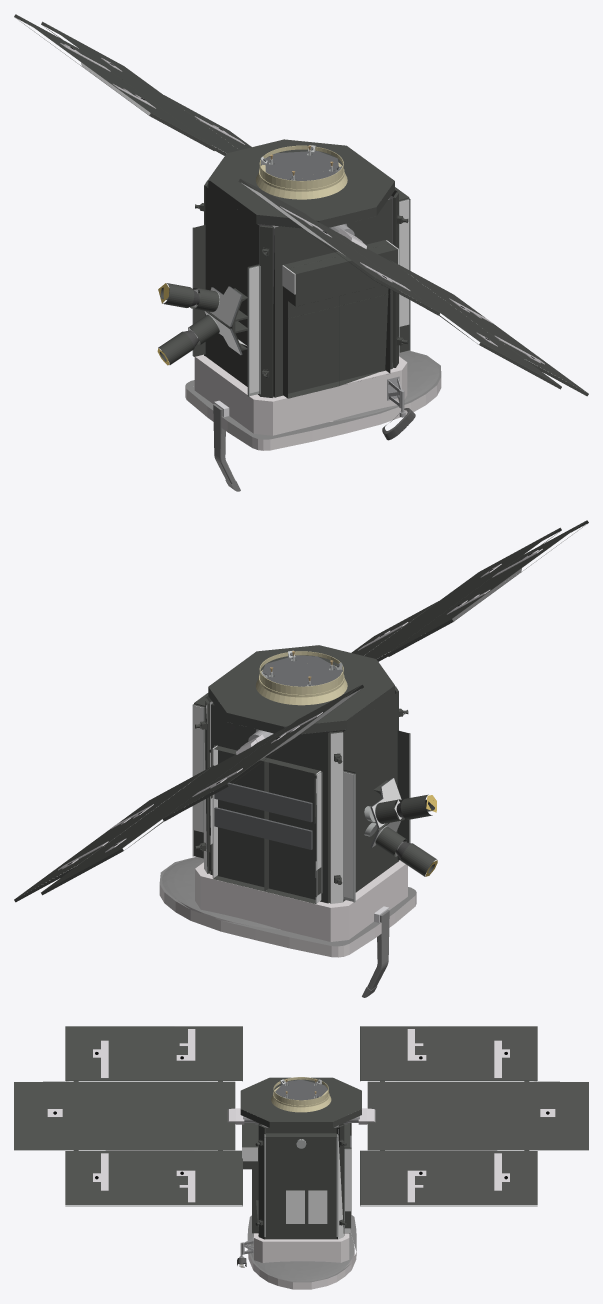
File: cloudsat-b.glb
The picture shows the model from 3 angles, top to bottom: view 1: azimuth 30°, elevation 25°; view 2: azimuth 150°, elevation 25°; view 3: azimuth 270°, elevation 25°; orthographic projection. The views are drawn at different scales.
Visible parts, largest first — view 1: Layer_0; view 2: Layer_0; view 3: Layer_0.
Boxes of the visible parts, left/top/right/bottom form: Layer_0: left=14, top=14, right=588, bottom=491; Layer_0: left=14, top=520, right=588, bottom=997; Layer_0: left=14, top=1026, right=588, bottom=1289.
Size of the model in its own units: 11.5 by 14.35 by 32.24.
Materials: 2 (2 with a texture image).
